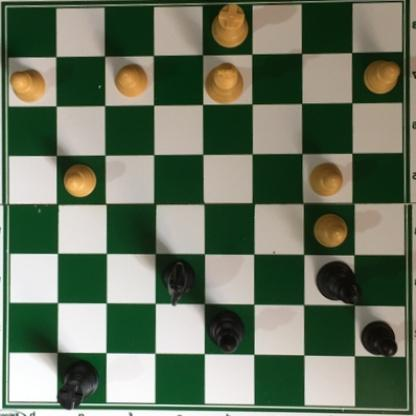black-bishop: (203, 308, 246, 354)
black-king: (313, 260, 361, 307)
black-knight: (160, 257, 197, 309)
black-pawn: (358, 320, 398, 360)
black-rook: (53, 360, 101, 415)
white-king: (202, 61, 245, 106)
white-pawn: (106, 64, 149, 100), (308, 212, 347, 251), (306, 161, 346, 199), (7, 69, 47, 106), (62, 162, 100, 200), (361, 58, 401, 94)
white-rook: (210, 0, 251, 54)
